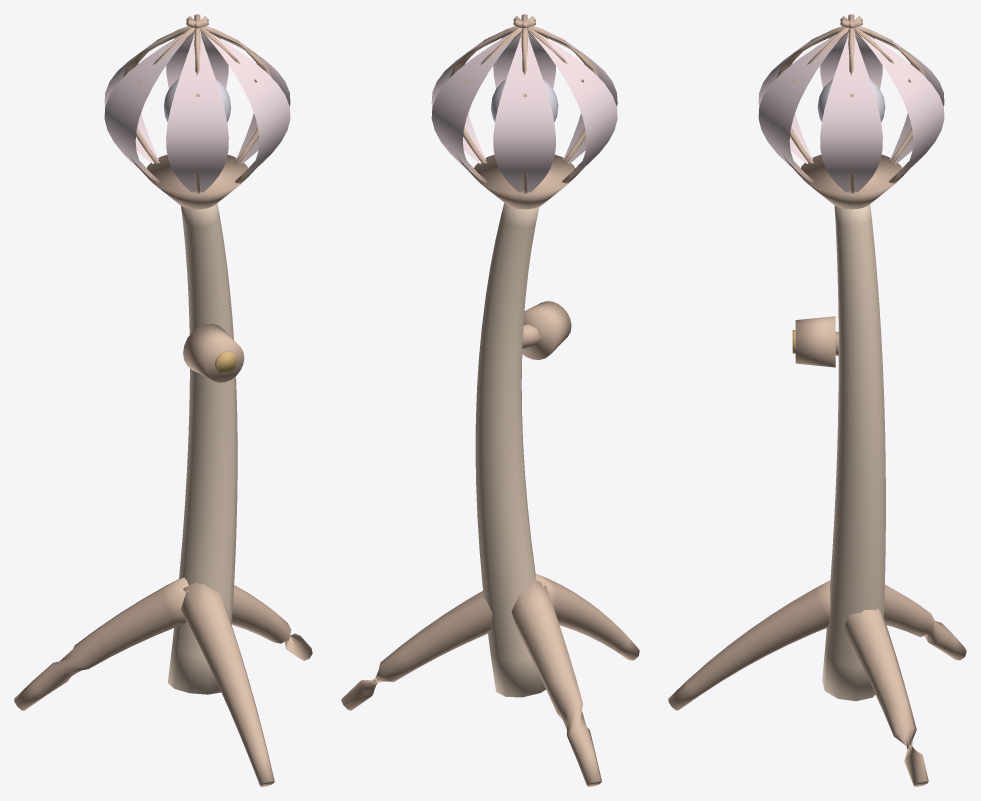
The model's file is lanterne_fleur.glb.
The picture shows the model from 3 angles, left to right: view 1: azimuth 30°, elevation 25°; view 2: azimuth 150°, elevation 25°; view 3: azimuth 270°, elevation 25°; orthographic projection.
Visible parts, largest first — view 1: tige.001, petale_mesh4, pied.004, pied.003, petale_mesh3, petale_mesh5, pied.002, coupe, boitier_prise, petale_mesh1, petale_mesh0, petale_mesh2 (+3 smaller); view 2: tige.001, petale_mesh2, pied.003, pied.002, petale_mesh1, petale_mesh3, pied.004, coupe, boitier_prise, petale_mesh5, petale_mesh4, petale_mesh0 (+3 smaller); view 3: tige.001, petale_mesh0, pied.004, pied.002, petale_mesh5, petale_mesh1, pied.003, coupe, boitier_prise, petale_mesh3, petale_mesh2, petale_mesh4 (+3 smaller).
Boxes of the visible parts, x1=… form: tige.001: x1=168, y1=203, x2=237, y2=694; petale_mesh4: x1=166, y1=30, x2=228, y2=192; pied.004: x1=181, y1=582, x2=274, y2=786; pied.003: x1=14, y1=577, x2=188, y2=710; petale_mesh3: x1=104, y1=30, x2=193, y2=182; petale_mesh5: x1=201, y1=31, x2=290, y2=182; pied.002: x1=231, y1=585, x2=312, y2=660; coupe: x1=147, y1=155, x2=247, y2=209; boitier_prise: x1=183, y1=323, x2=244, y2=382; petale_mesh1: x1=166, y1=33, x2=228, y2=88; petale_mesh0: x1=207, y1=29, x2=290, y2=163; petale_mesh2: x1=104, y1=29, x2=187, y2=163; tige.001: x1=475, y1=203, x2=545, y2=697; petale_mesh2: x1=493, y1=30, x2=555, y2=192; pied.003: x1=511, y1=580, x2=601, y2=786; pied.002: x1=341, y1=591, x2=492, y2=710; petale_mesh1: x1=431, y1=31, x2=520, y2=181; petale_mesh3: x1=530, y1=30, x2=617, y2=181; pied.004: x1=535, y1=573, x2=639, y2=660; coupe: x1=474, y1=154, x2=575, y2=209; boitier_prise: x1=522, y1=301, x2=571, y2=359; petale_mesh5: x1=493, y1=33, x2=555, y2=88; petale_mesh4: x1=537, y1=30, x2=617, y2=163; petale_mesh0: x1=431, y1=30, x2=510, y2=163; tige.001: x1=822, y1=204, x2=885, y2=701; petale_mesh0: x1=820, y1=30, x2=882, y2=192; pied.004: x1=668, y1=580, x2=830, y2=710; pied.002: x1=844, y1=608, x2=928, y2=786; petale_mesh5: x1=758, y1=30, x2=847, y2=182; petale_mesh1: x1=855, y1=31, x2=944, y2=182; pied.003: x1=884, y1=584, x2=966, y2=660; coupe: x1=801, y1=154, x2=901, y2=209; boitier_prise: x1=795, y1=316, x2=835, y2=367; petale_mesh3: x1=820, y1=33, x2=882, y2=88; petale_mesh2: x1=862, y1=29, x2=944, y2=163; petale_mesh4: x1=758, y1=29, x2=841, y2=163.
Bounding box in the file's own units: 0.8043 × 1.94 × 0.7493.
